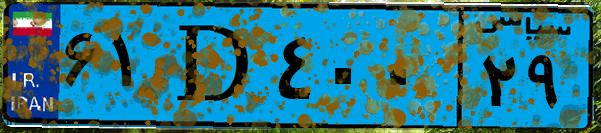0: (385, 28, 445, 110), (330, 28, 385, 110)
1: (110, 28, 158, 98)
2: (475, 38, 525, 113)
4: (270, 28, 330, 110)
6: (57, 26, 110, 100)
9: (525, 38, 570, 115)
D: (158, 12, 270, 120)
